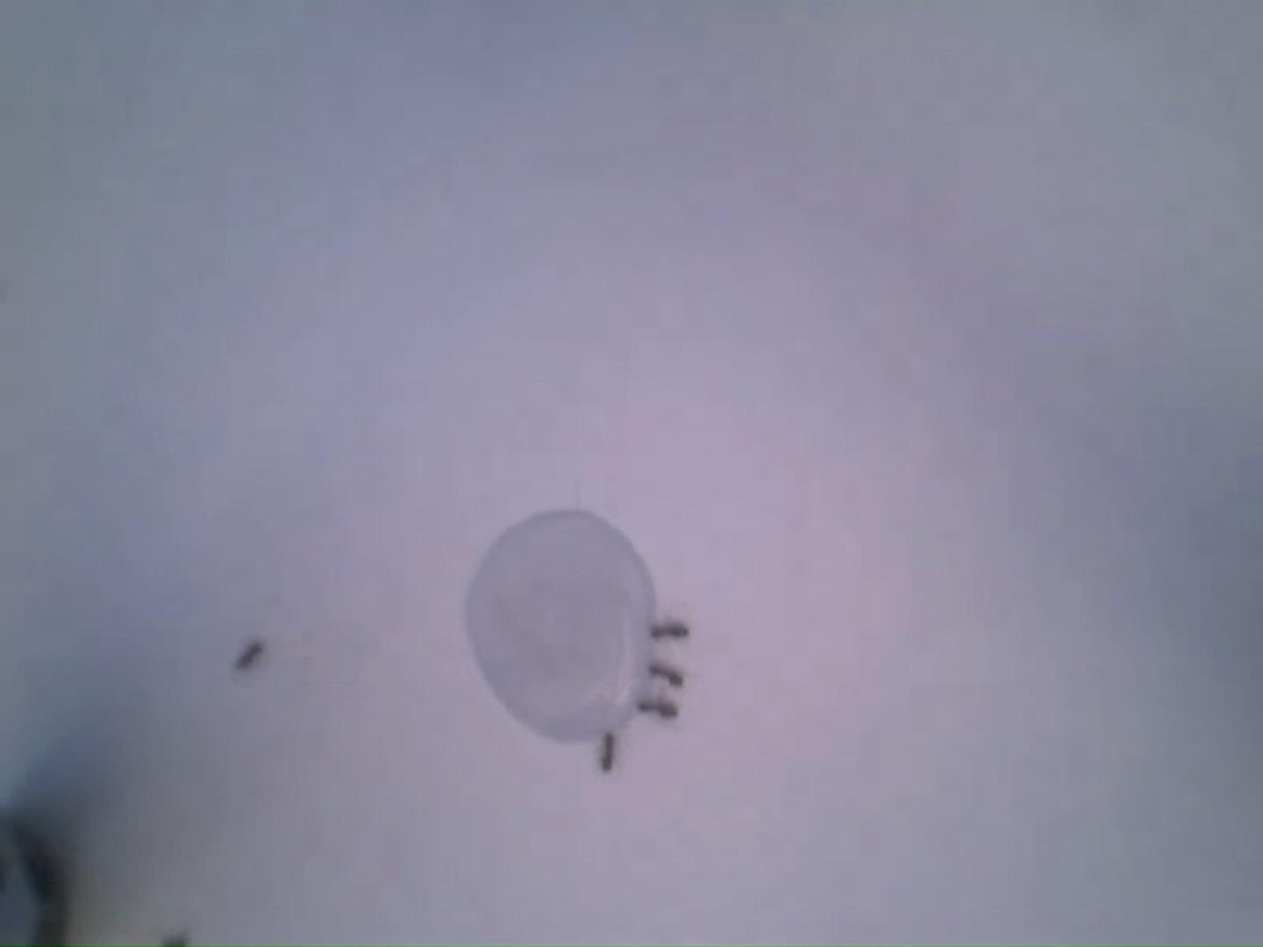Ant: (640, 694, 681, 719), (652, 659, 688, 687), (238, 638, 266, 670), (653, 619, 693, 641), (603, 731, 618, 772), (163, 933, 193, 946)
